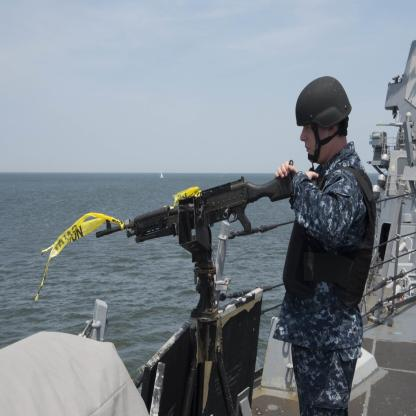Helmet: (296, 77, 360, 163)
